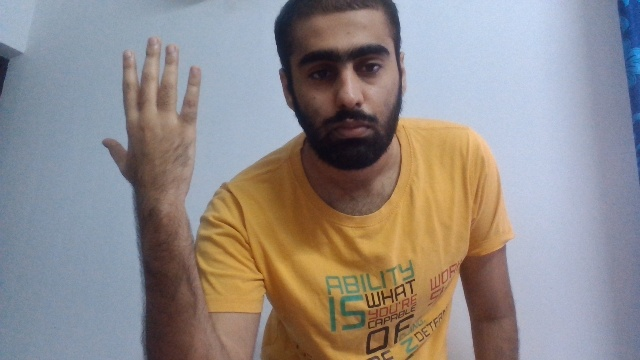paper: (100, 35, 201, 198)
